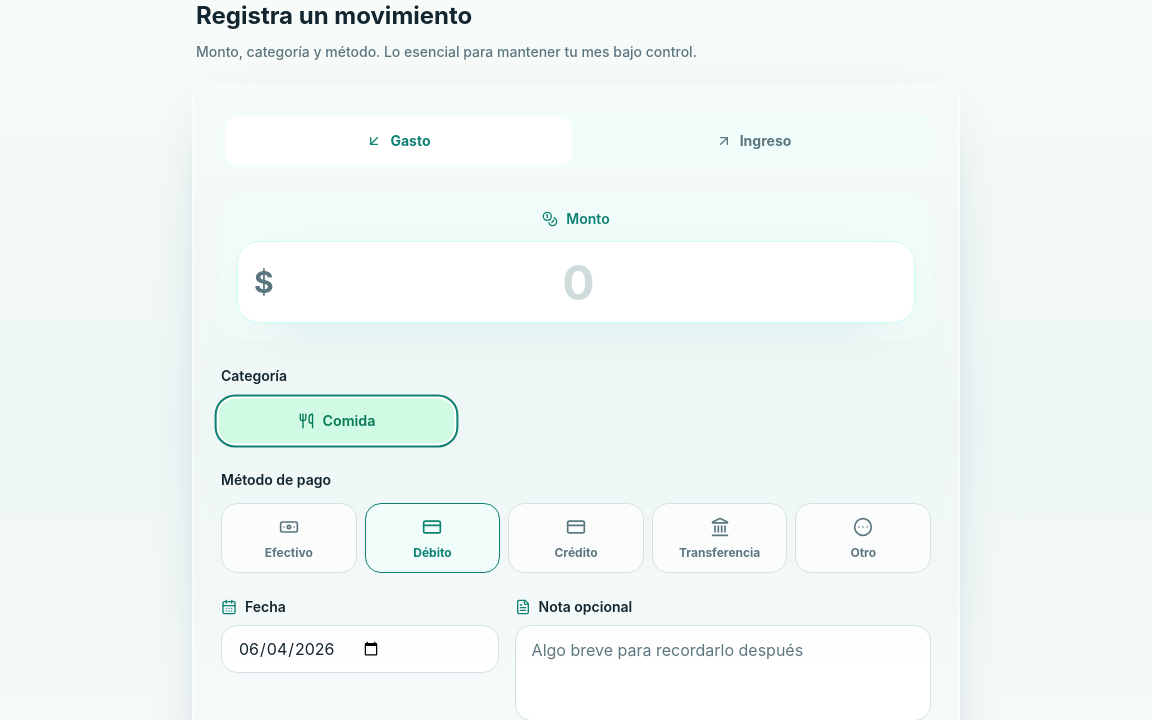
Test case: NewTransactionPage › permite guardar aunque isOnline sea false
Type "88" into the number field labelled "Monto".
click(586, 282); type("88")  # box [274,242,898,322]
(page scrolled)
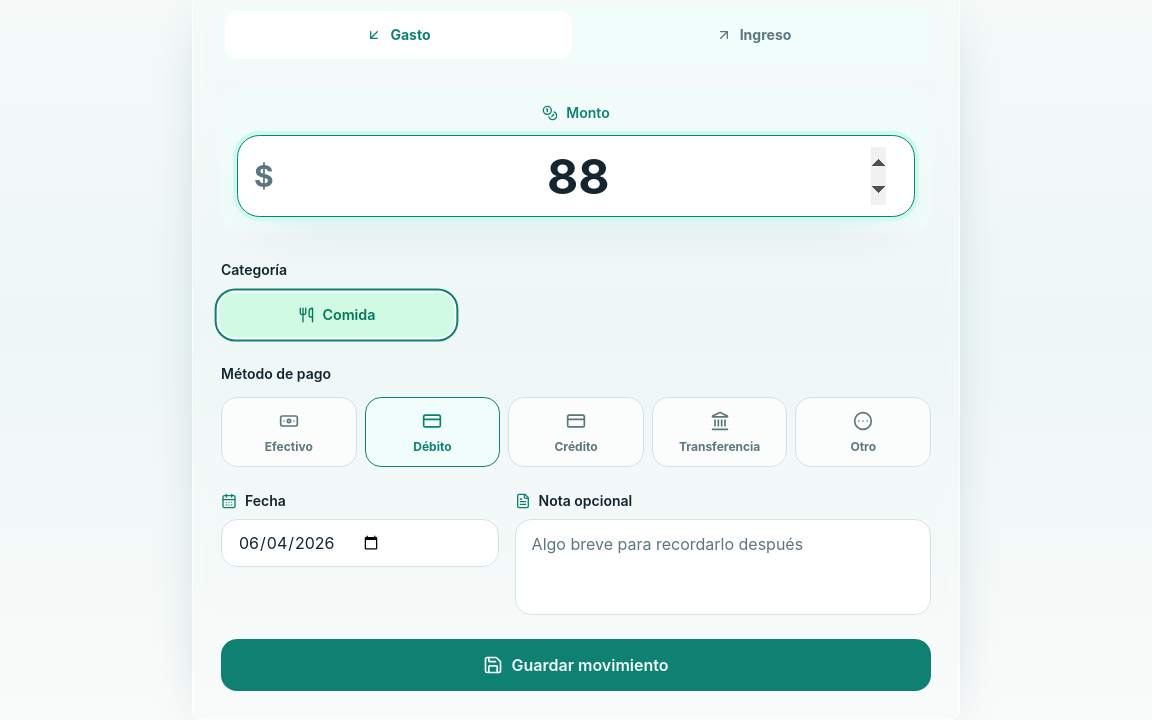
Click the button "Guardar movimiento".
click(576, 665)  # box [221,639,931,691]
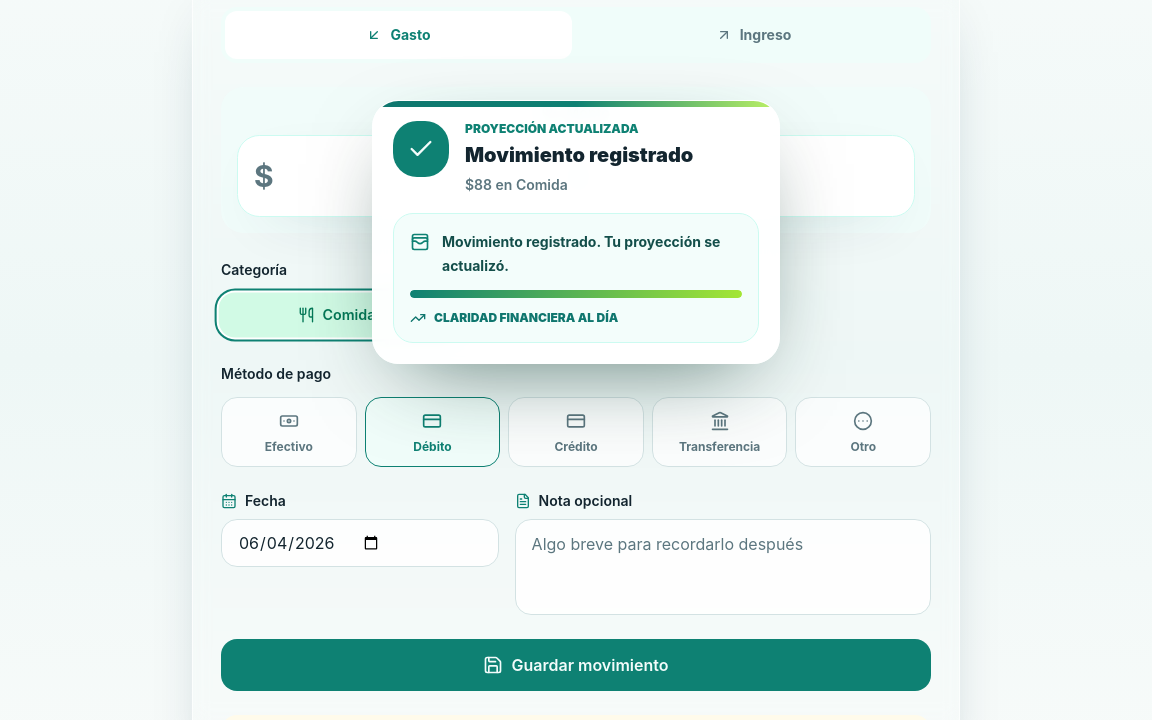
Result: the heading "Movimiento registrado" is shown at [465,143,693,167]
Result: the text "Movimiento registrado. Tu proyección se actualizó." is shown at [442,230,742,278]
Result: the text "Claridad financiera al día" is shown at [410,310,618,326]
